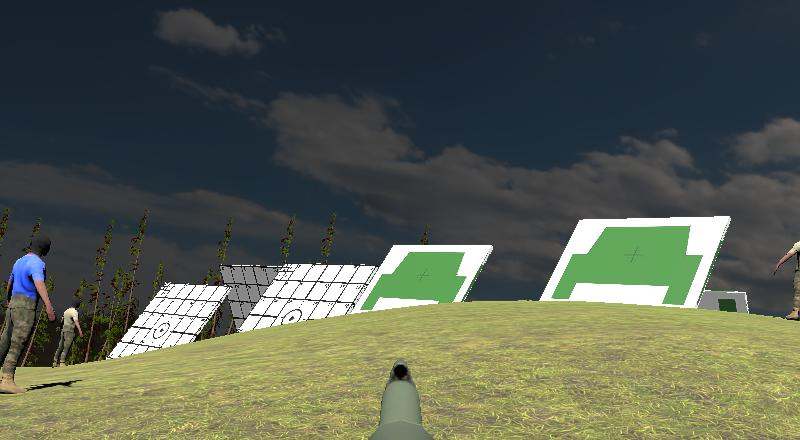Human: (0, 221, 60, 398), (771, 221, 800, 326), (51, 294, 86, 371)
